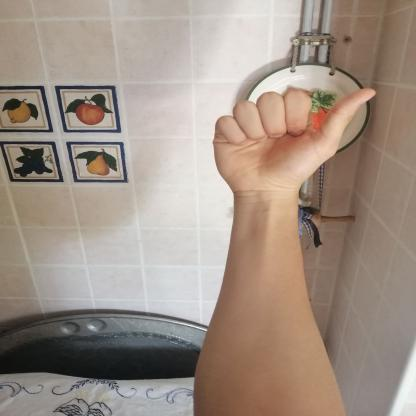DAD: (200, 78, 387, 208)
